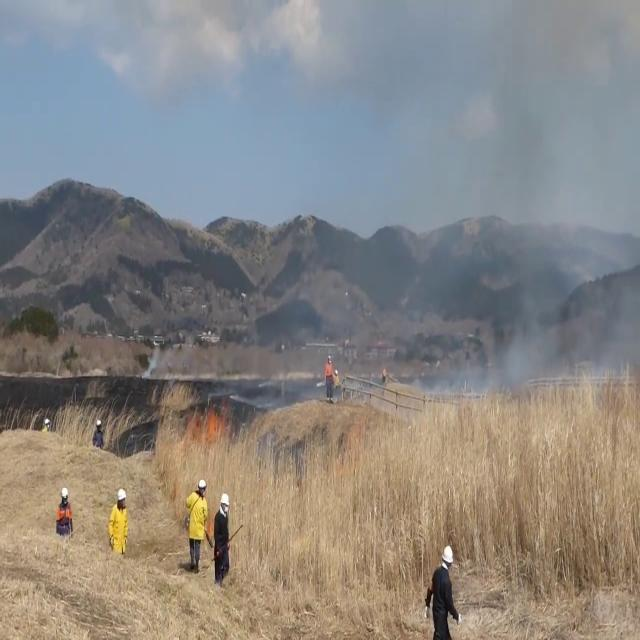Smoke: (374, 14, 640, 410)
